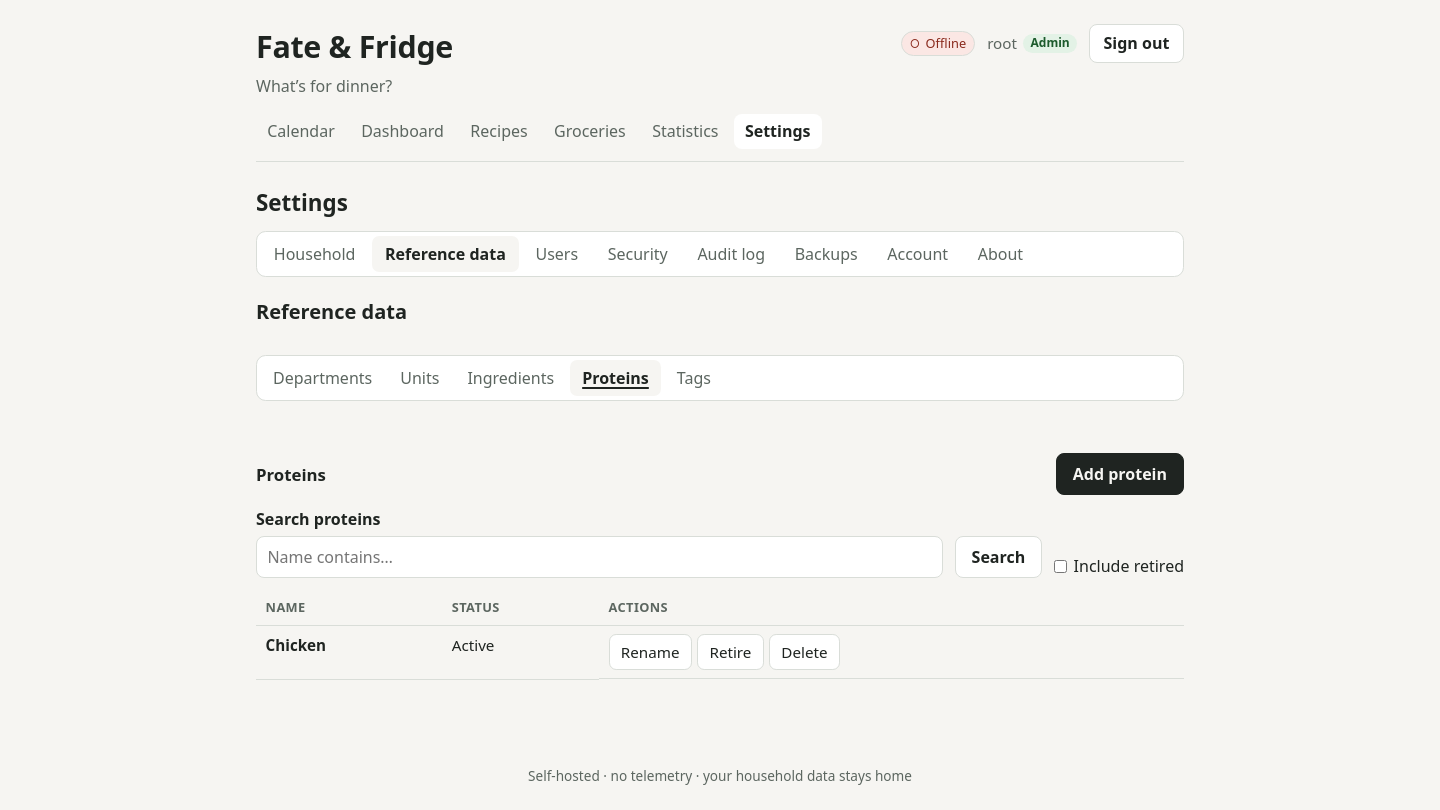
it: proteins tab › keeps the delete dialog open with the PROTEIN_IN_USE usage count
This screenshot has width=1440, height=810.
Click the button with aria-label "Delete Chicken": (804, 652) left=769, top=634, right=840, bottom=670
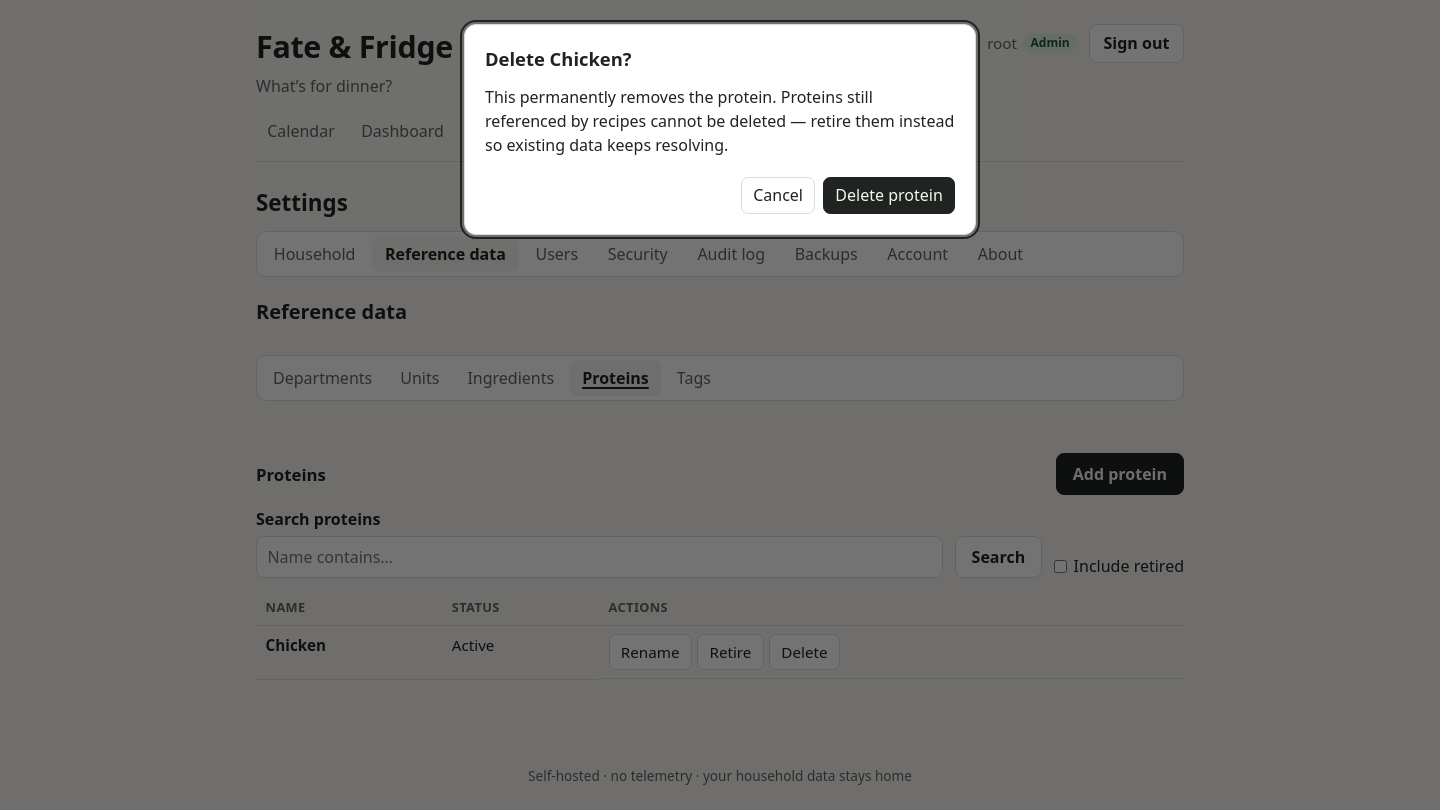
Click the button "Delete protein": (889, 195) left=823, top=177, right=955, bottom=214
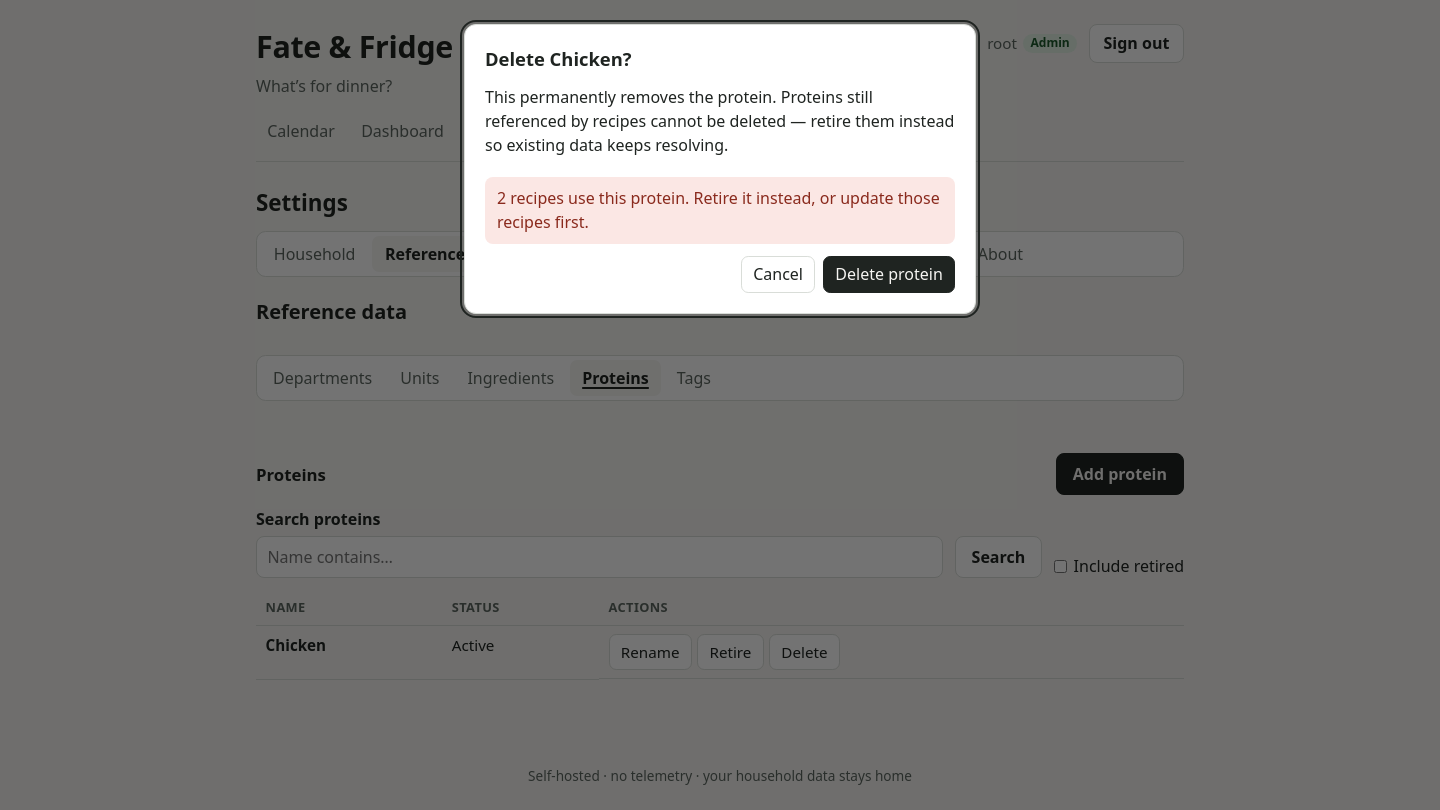
Expected: the dialog "Delete Chicken?" is shown, left=464, top=24, right=976, bottom=314
Expected: the message reads "2 recipes use this protein. Retire it instead, or update those recipes first.", left=497, top=187, right=940, bottom=233
